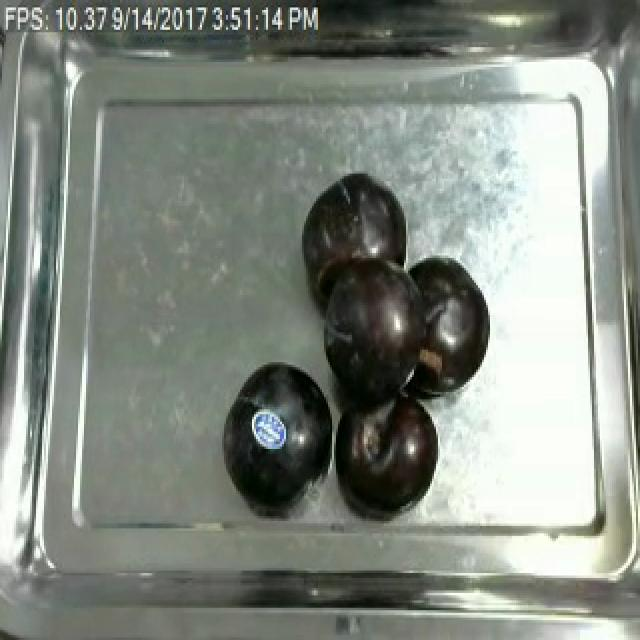Fruit: (212, 352, 338, 509), (410, 253, 494, 399), (340, 392, 440, 513), (298, 169, 406, 278)
